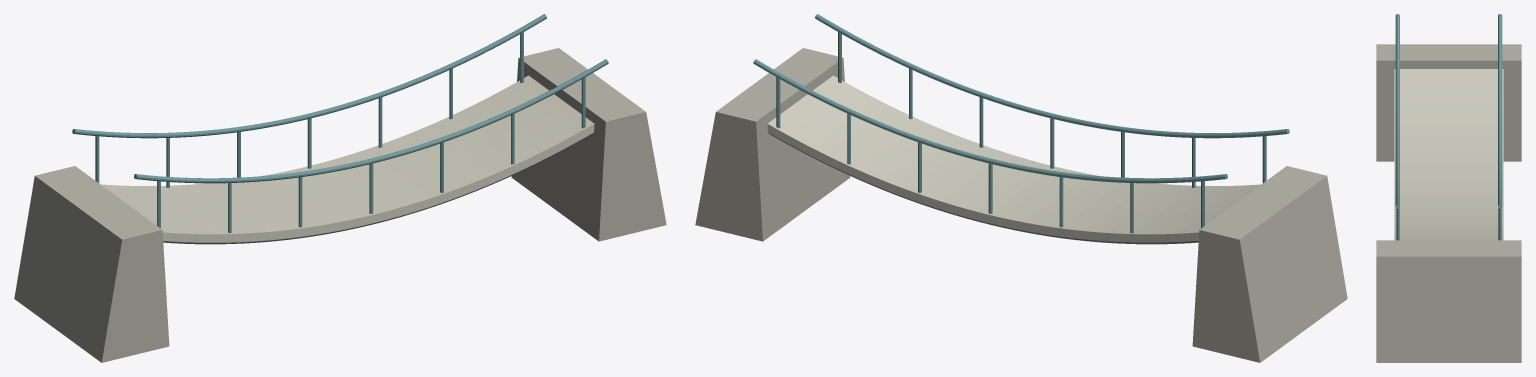
3 views of the same model, side by side, from view 1: azimuth 30°, elevation 25°; view 2: azimuth 150°, elevation 25°; view 3: azimuth 270°, elevation 25° (orthographic). The views are drawn at different scales.
Visible parts, largest first — view 1: WholeContinuousSaggingRibbonDeck, WholeTerminalAnchorAbutment0, WholeTerminalAnchorAbutment1, WholeContinuousFollowingSideGuard0, WholeContinuousFollowingSideGuard1, WholeContinuousSameProfileEdgeTendon0; view 2: WholeContinuousSaggingRibbonDeck, WholeTerminalAnchorAbutment0, WholeTerminalAnchorAbutment1, WholeContinuousFollowingSideGuard1, WholeContinuousFollowingSideGuard0, WholeContinuousSameProfileEdgeTendon1; view 3: WholeTerminalAnchorAbutment1, WholeContinuousSaggingRibbonDeck, WholeTerminalAnchorAbutment0, WholeContinuousFollowingSideGuard0, WholeContinuousFollowingSideGuard1, WholeUprightGuardPost0_6, WholeUprightGuardPost1_6.
Part boxes in pixels (<box>): WholeContinuousSaggingRibbonDeck: <box>101,75,594,242</box>; WholeTerminalAnchorAbutment0: <box>14,166,169,362</box>; WholeTerminalAnchorAbutment1: <box>511,48,666,241</box>; WholeContinuousFollowingSideGuard0: <box>134,59,608,183</box>; WholeContinuousFollowingSideGuard1: <box>72,14,546,138</box>; WholeContinuousSameProfileEdgeTendon0: <box>163,133,593,244</box>; WholeContinuousSaggingRibbonDeck: <box>767,75,1260,242</box>; WholeTerminalAnchorAbutment0: <box>1192,166,1347,362</box>; WholeTerminalAnchorAbutment1: <box>695,48,850,241</box>; WholeContinuousFollowingSideGuard1: <box>753,59,1227,183</box>; WholeContinuousFollowingSideGuard0: <box>815,14,1289,138</box>; WholeContinuousSameProfileEdgeTendon1: <box>768,133,1198,244</box>; WholeTerminalAnchorAbutment1: <box>1376,240,1521,362</box>; WholeContinuousSaggingRibbonDeck: <box>1394,69,1503,240</box>; WholeTerminalAnchorAbutment0: <box>1376,44,1521,161</box>; WholeContinuousFollowingSideGuard0: <box>1395,14,1399,208</box>; WholeContinuousFollowingSideGuard1: <box>1498,14,1502,208</box>; WholeUprightGuardPost0_6: <box>1396,208,1399,240</box>; WholeUprightGuardPost1_6: <box>1498,208,1501,240</box>.
Size of the model in its own units: 9.1 by 2.59 by 2.44.
